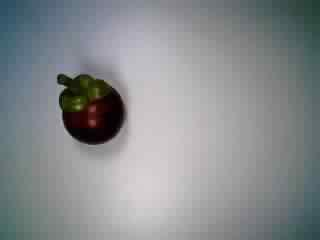mangosteen: (50, 72, 124, 146)
